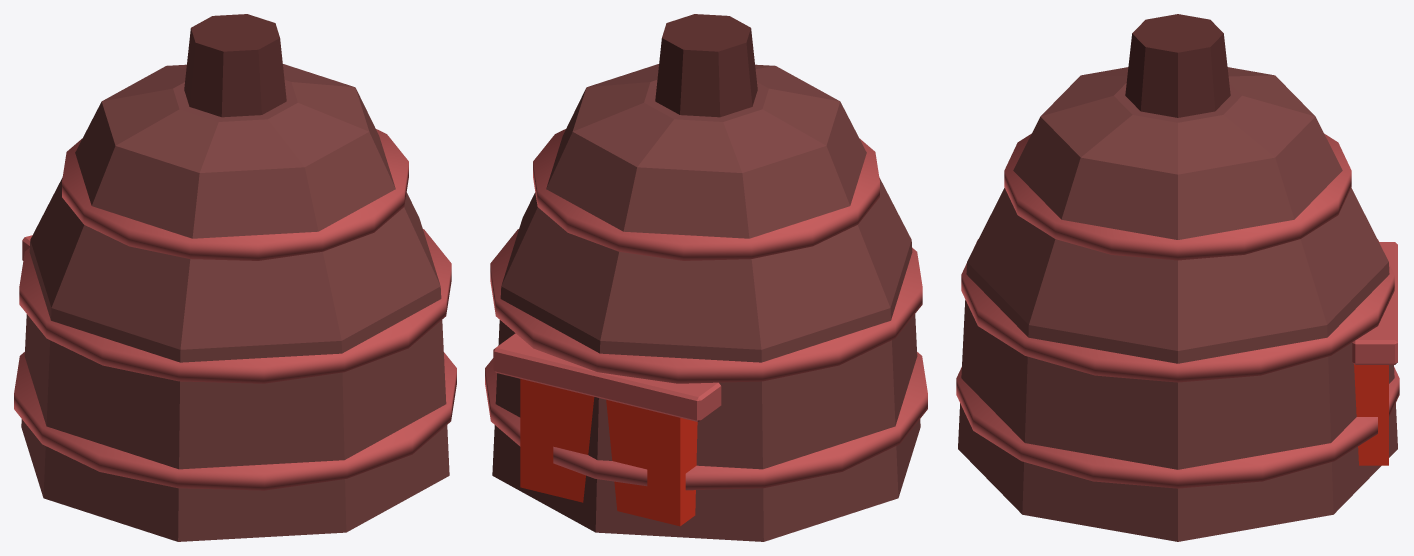
Rendered from adamantite_forge_v0.glb.
The picture shows the model from 3 angles, left to right: view 1: azimuth 30°, elevation 25°; view 2: azimuth 150°, elevation 25°; view 3: azimuth 270°, elevation 25°; orthographic projection.
Visible parts, largest first — view 1: adamantite_forge_v0; view 2: adamantite_forge_v0; view 3: adamantite_forge_v0.
Boxes of the visible parts, <box> form: adamantite_forge_v0: <box>14,14,456,541</box>; adamantite_forge_v0: <box>485,14,927,541</box>; adamantite_forge_v0: <box>956,14,1399,541</box>.
Bounding box in the file's own units: 1.45 × 1.5 × 1.45.
